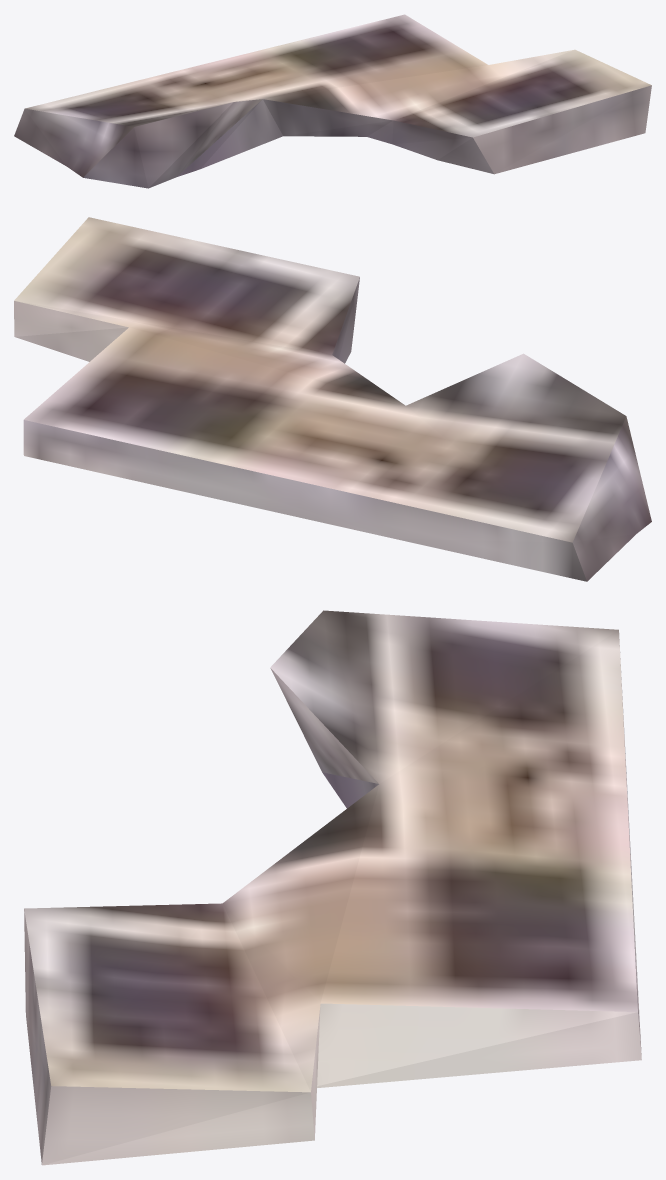
3 renders of one model, top to bottom at view 1: azimuth 30°, elevation 25°; view 2: azimuth 150°, elevation 25°; view 3: azimuth 270°, elevation 25°, orthographic. The views are drawn at different scales.
Parts seen in each view (by area): view 1: Mesh_0; view 2: Mesh_0; view 3: Mesh_0.
Boxes of the visible parts, bbox=[...] form: Mesh_0: bbox=[14, 14, 651, 188]; Mesh_0: bbox=[14, 217, 651, 581]; Mesh_0: bbox=[24, 610, 641, 1165].
Size of the model in its own units: 14.88 by 2.26 by 8.02.
Materials: 1 (1 with a texture image).
